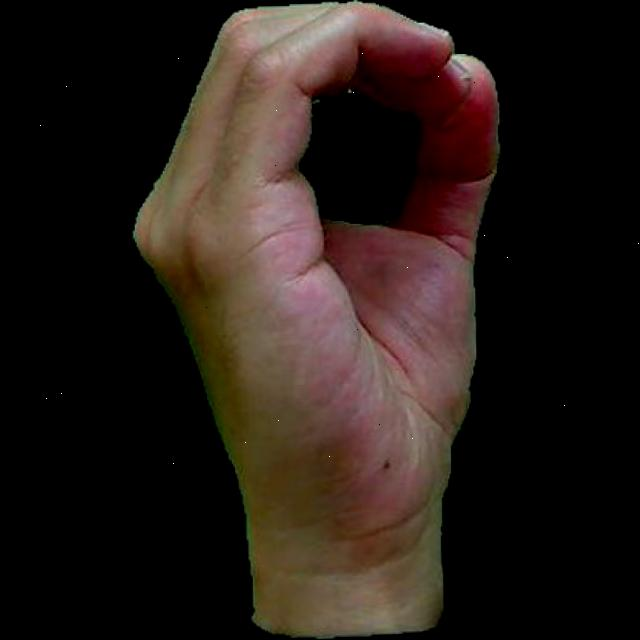o: (119, 0, 516, 640)
